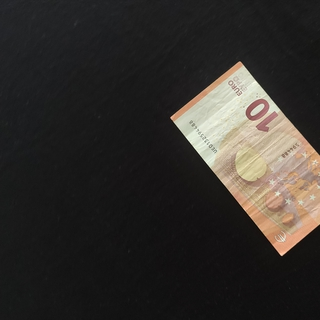10EUROBack: (169, 60, 320, 256)
